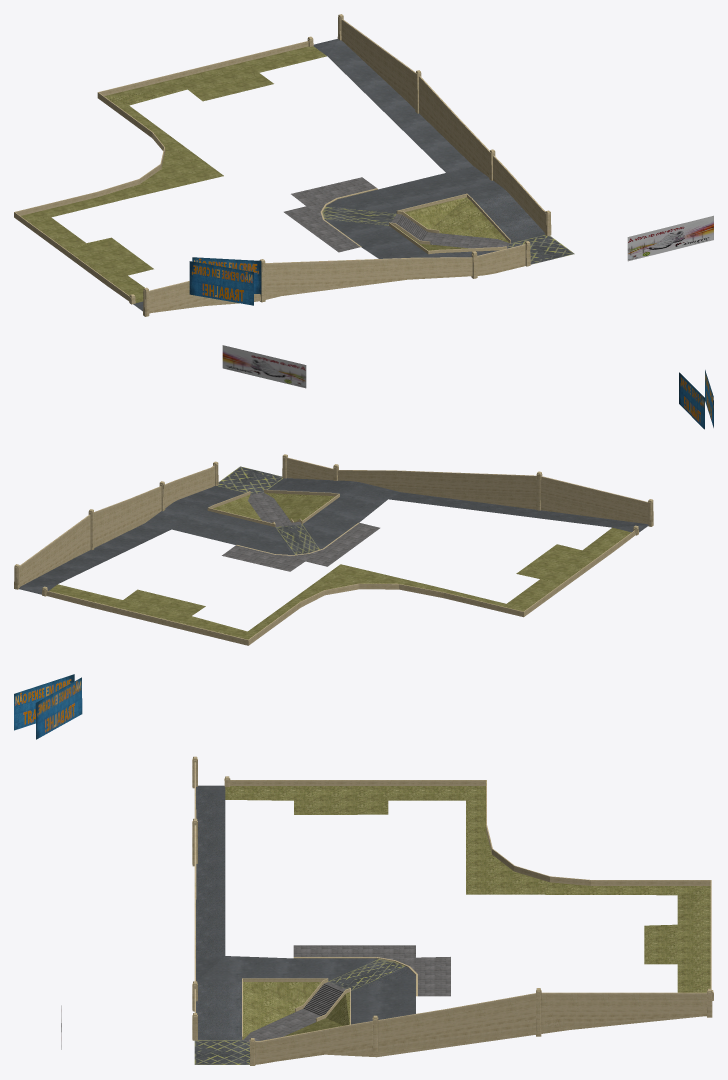
Rendered from laehospground1.obj.
The picture shows the model from 3 angles, top to bottom: view 1: azimuth 30°, elevation 25°; view 2: azimuth 150°, elevation 25°; view 3: azimuth 270°, elevation 25°; orthographic projection. The views are drawn at different scales.
Parts seen in each view (by area): view 1: laehospground1; view 2: laehospground1; view 3: laehospground1.
Boxes of the visible parts, x1,y1,x2,y2 form: laehospground1: (14,14,713,316); laehospground1: (14,345,713,645); laehospground1: (14,674,713,1065).
Size of the model in its own units: 128 by 33.24 by 135.
